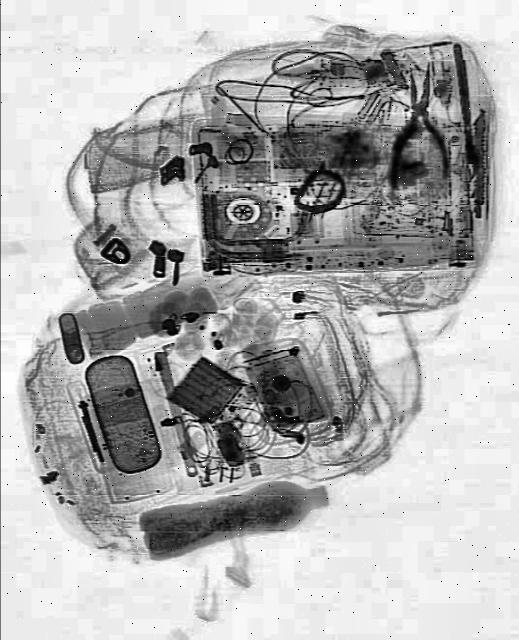Pliers: (386, 61, 450, 189)
